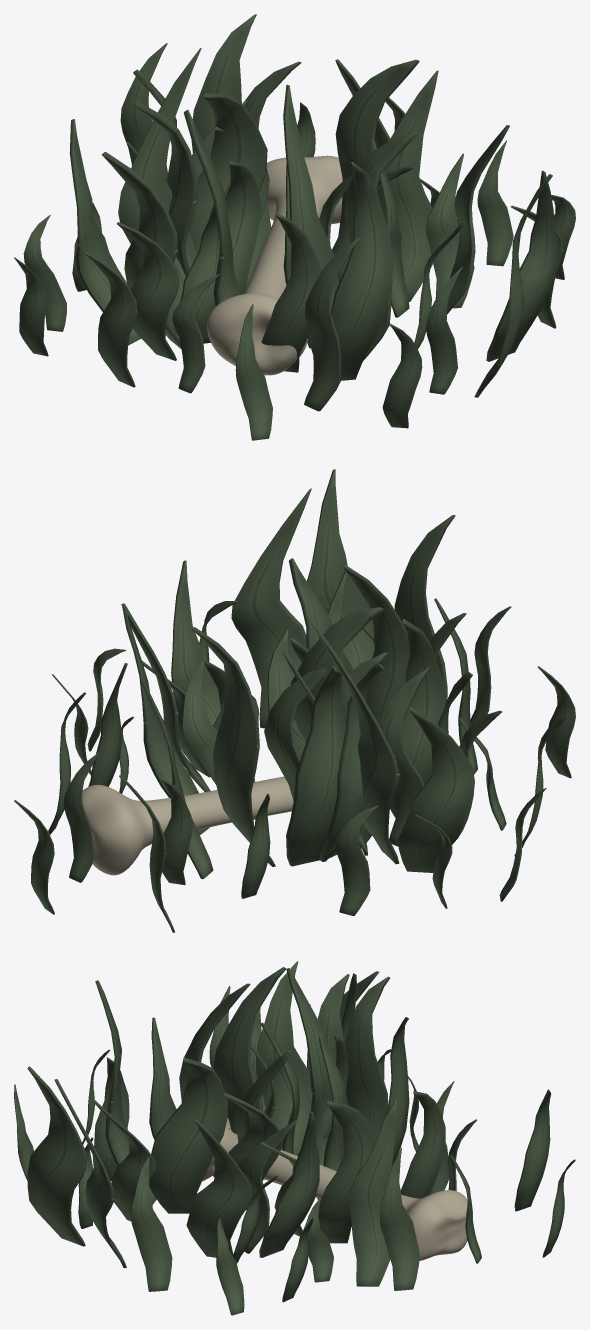
File: Grass_Bone.fbx
The picture shows the model from 3 angles, top to bottom: view 1: azimuth 30°, elevation 25°; view 2: azimuth 150°, elevation 25°; view 3: azimuth 270°, elevation 25°; orthographic projection. The views are drawn at different scales.
Parts seen in each view (by area): view 1: Grasspatch.001, Bone; view 2: Grasspatch.001, Bone; view 3: Grasspatch.001, Bone.
Part boxes in pixels (left/top/right/bottom): Grasspatch.001: left=14, top=14, right=575, bottom=440; Bone: left=207, top=155, right=342, bottom=375; Grasspatch.001: left=14, top=469, right=575, bottom=932; Bone: left=82, top=776, right=293, bottom=875; Grasspatch.001: left=14, top=961, right=575, bottom=1315; Bone: left=202, top=1117, right=472, bottom=1260.
Bounding box in the file's own units: 32.88 × 15.7 × 36.28.
